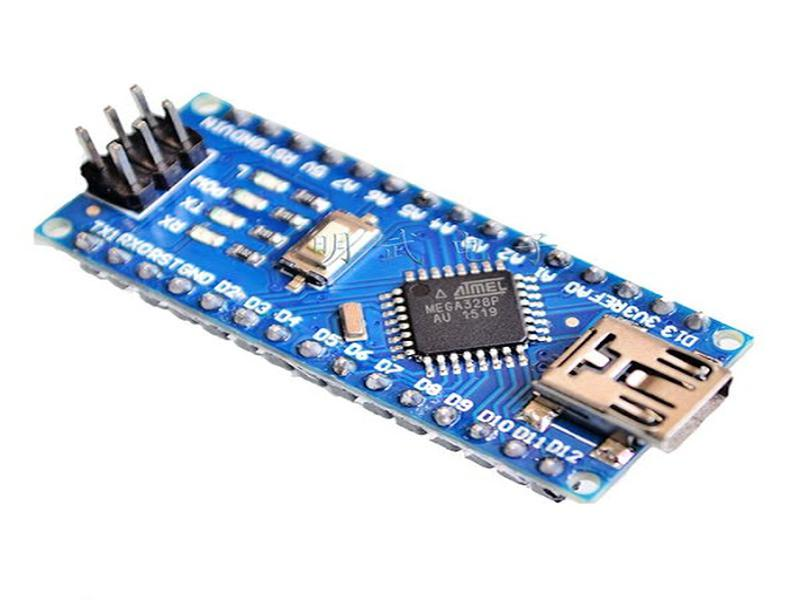Arduino_Nano: (29, 68, 762, 509)
